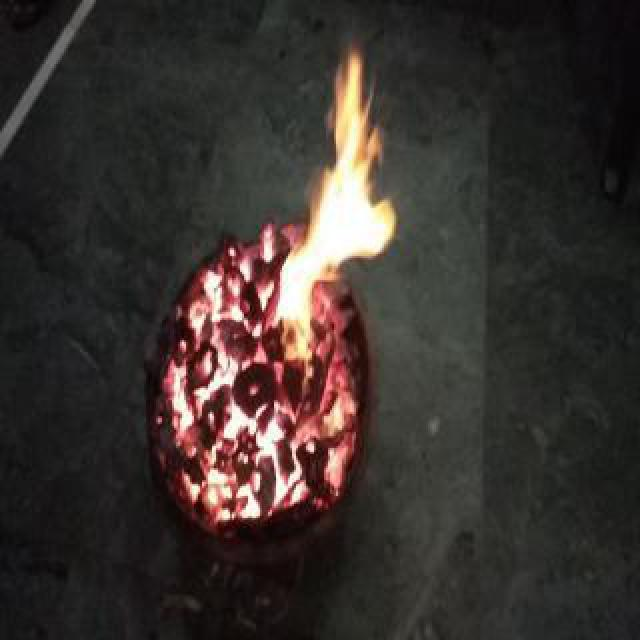zfire: (246, 38, 416, 368)
